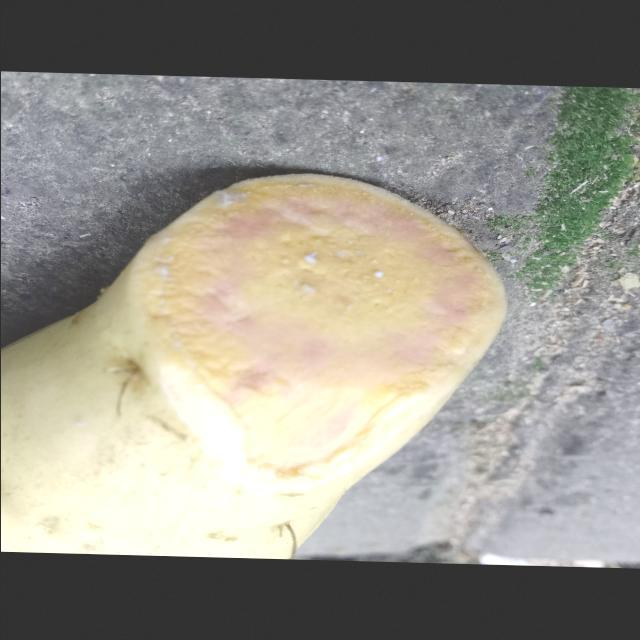Healthy Sweet Potato: (130, 175, 505, 494)
